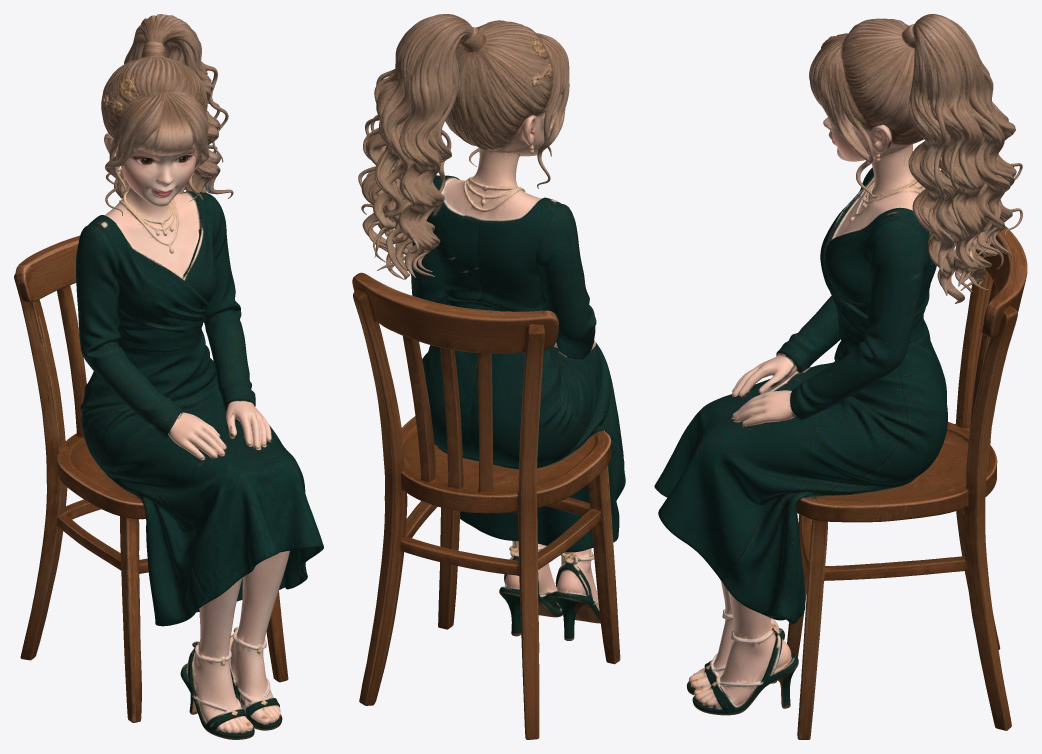
The model's file is shiro.glb.
The picture shows the model from 3 angles, left to right: view 1: azimuth 30°, elevation 25°; view 2: azimuth 150°, elevation 25°; view 3: azimuth 270°, elevation 25°; orthographic projection. The views are drawn at different scales.
Size of the model in its own units: 0.6317 by 1.9 by 0.9345.
Materials: 1 (1 with a texture image).
